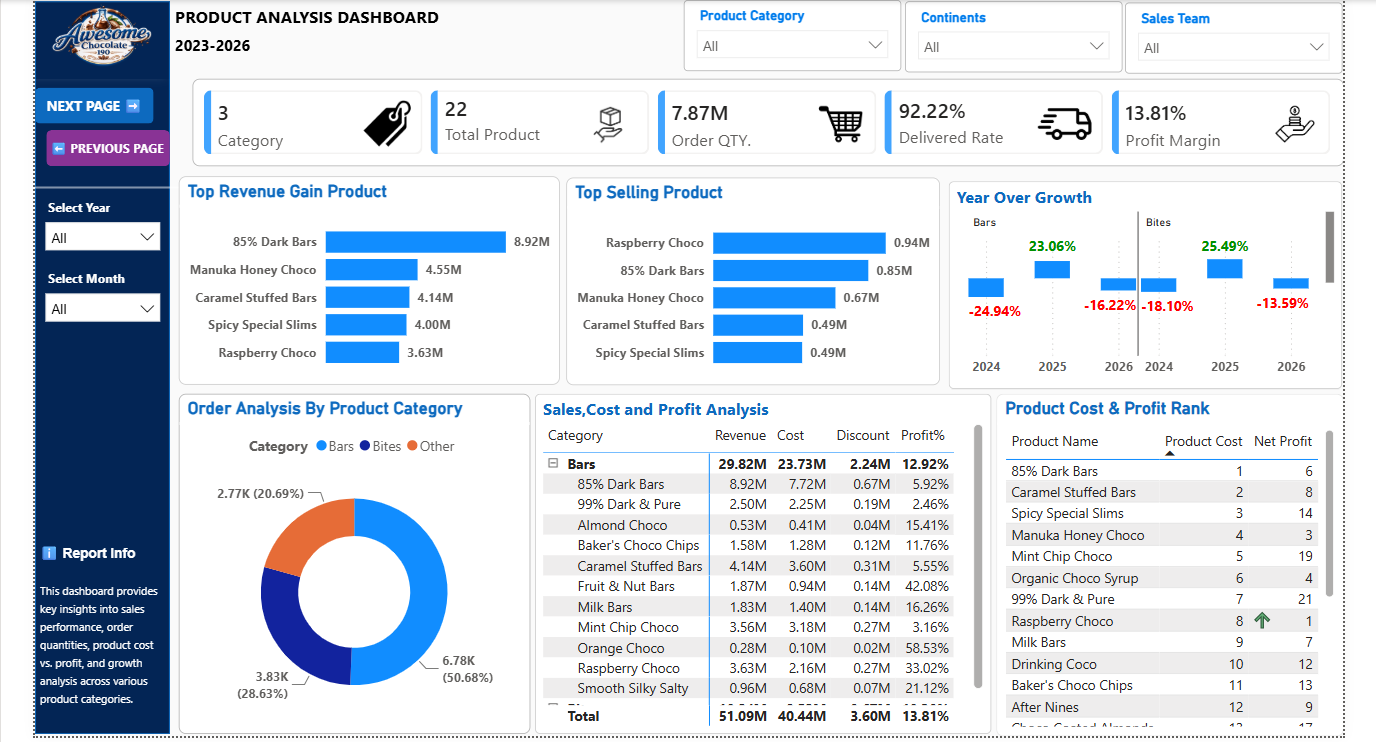

This screenshot's page, from the dashboard's own definition file:
{"tool":"powerbi","page":{"name":"🛍️ PRODUCT ANALYSIS","canvas":[1280,720],"ordinal":2},"visuals":[{"type":"shape","box":[0,1,132,717],"z":0},{"type":"image","box":[0,0,132,77],"z":1000},{"type":"textbox","box":[132.1,0,284.9,48.9],"z":2000},{"type":"slicer","fields":{"Values":["Product_Table.Category"]},"box":[634.7,0,212.8,69.7],"z":3000},{"type":"textbox","box":[132,29,116,32],"z":4000},{"type":"slicer","fields":{"Values":["Date_Table.Date.Variation.Date Hierarchy.Year"]},"box":[0,189.5,132.1,69.7],"z":5000},{"type":"slicer","fields":{"Values":["Date_Table.Date.Variation.Date Hierarchy.Month"]},"box":[0,259.2,132.1,68.5],"z":6000},{"type":"textbox","box":[0,527,132.1,193.2],"z":7000},{"type":"slicer","fields":{"Values":["Geography_Table.Continent"]},"box":[851.1,1.2,212.8,69.7],"z":8000},{"type":"slicer","fields":{"Values":["SalesPerson_Table.Team"]},"box":[1066.3,2.4,212.8,69.7],"z":9000},{"type":"actionButton","box":[0,85.6,116.2,35.5],"z":10000},{"type":"actionButton","box":[11,127.2,121.1,35.5],"z":11000},{"type":"shape","box":[0,177.3,154.1,12.2],"z":12000},{"type":"cardVisual","fields":{"Data":["4 Product Analysis Measures.Availabe Category","4 Product Analysis Measures.Total Product","4 Product Analysis Measures.Order QTY.","2 Order Analysis Measures.Delivered%","1 Sales Analysis Measures.Profit%"]},"box":[153.8,77,1126.2,85.6],"z":13000},{"type":"pivotTable","title":"Sales, Cost, Discount and Profit Analysis","fields":{"Rows":["Product_Table.Category","Product_Table.Product Name"],"Values":["1 Sales Analysis Measures.Total Revenue","1 Sales Analysis Measures.Product Cost","1 Sales Analysis Measures.Discount Amount","1 Sales Analysis Measures.Profit%"]},"box":[489.1,385.2,446.3,332.6],"z":14000},{"type":"clusteredBarChart","title":"Top Revenue Gain Product","fields":{"Category":["Product_Table.Product Name"],"Y":["1 Sales Analysis Measures.Total Revenue"]},"box":[140.6,172.4,373,204.2],"z":17250},{"type":"clusteredBarChart","title":"Top Selling Product","fields":{"Category":["Product_Table.Product Name"],"Y":["4 Product Analysis Measures.Order QTY."]},"box":[519.7,173.6,365.6,203],"z":17875},{"type":"tableEx","title":"Product Cost & Profit Rank","fields":{"Values":["Product_Table.Product Name","4 Product Analysis Measures.Product Cost Rank","4 Product Analysis Measures.Product Profit Rank"]},"box":[940.4,385.2,339.9,335.1],"z":18500},{"type":"donutChart","title":"Order Analysis By Product Category","fields":{"Category":["Product_Table.Category"],"Y":["2 Order Analysis Measures.Total Order"]},"box":[140.6,385.2,343.6,332.6],"z":18750},{"type":"clusteredColumnChart","title":"Year Over Growth","fields":{"Category":["Date_Table.Date.Variation.Date Hierarchy.Year"],"Rows":["Product_Table.Category"],"Y":["6 Time Intelligence Measures.YOYGrowth%"]},"box":[893.9,177.3,385.2,203],"z":19500}]}

Visuals, with their boxes on the page's 1280x720 design canvas (x1, y1, x2, y2). These are canvas units, not pixel positions in the 1376x742 screenshot, which may show the page scaled, cropped or inside an application window:
shape: pyautogui.locateOnScreen(0, 1, 132, 718)
image: pyautogui.locateOnScreen(0, 0, 132, 77)
textbox: pyautogui.locateOnScreen(132, 0, 417, 49)
slicer - Product_Table.Category: pyautogui.locateOnScreen(635, 0, 848, 70)
textbox: pyautogui.locateOnScreen(132, 29, 248, 61)
slicer - Date_Table.Date.Variation.Date Hierarchy.Year: pyautogui.locateOnScreen(0, 190, 132, 259)
slicer - Date_Table.Date.Variation.Date Hierarchy.Month: pyautogui.locateOnScreen(0, 259, 132, 328)
textbox: pyautogui.locateOnScreen(0, 527, 132, 720)
slicer - Geography_Table.Continent: pyautogui.locateOnScreen(851, 1, 1064, 71)
slicer - SalesPerson_Table.Team: pyautogui.locateOnScreen(1066, 2, 1279, 72)
actionButton: pyautogui.locateOnScreen(0, 86, 116, 121)
actionButton: pyautogui.locateOnScreen(11, 127, 132, 163)
shape: pyautogui.locateOnScreen(0, 177, 154, 190)
cardVisual - 4 Product Analysis Measures.Availabe Category x 4 Product Analysis Measures.Total Product: pyautogui.locateOnScreen(154, 77, 1280, 163)
"Sales, Cost, Discount and Profit Analysis" pivotTable: pyautogui.locateOnScreen(489, 385, 935, 718)
"Top Revenue Gain Product" clusteredBarChart: pyautogui.locateOnScreen(141, 172, 514, 377)
"Top Selling Product" clusteredBarChart: pyautogui.locateOnScreen(520, 174, 885, 377)
"Product Cost & Profit Rank" tableEx: pyautogui.locateOnScreen(940, 385, 1280, 720)
"Order Analysis By Product Category" donutChart: pyautogui.locateOnScreen(141, 385, 484, 718)
"Year Over Growth" clusteredColumnChart: pyautogui.locateOnScreen(894, 177, 1279, 380)
